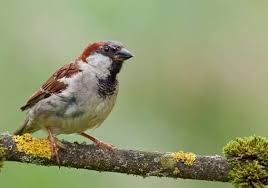hsparrow: (13, 37, 139, 167)
